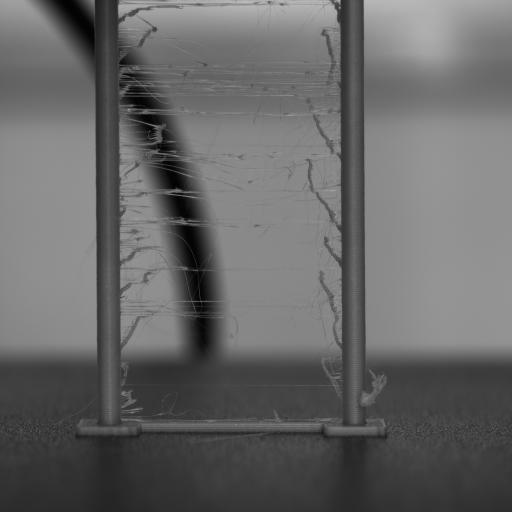spaghetti_and_stringing: (118, 0, 342, 354), (359, 371, 391, 414)
